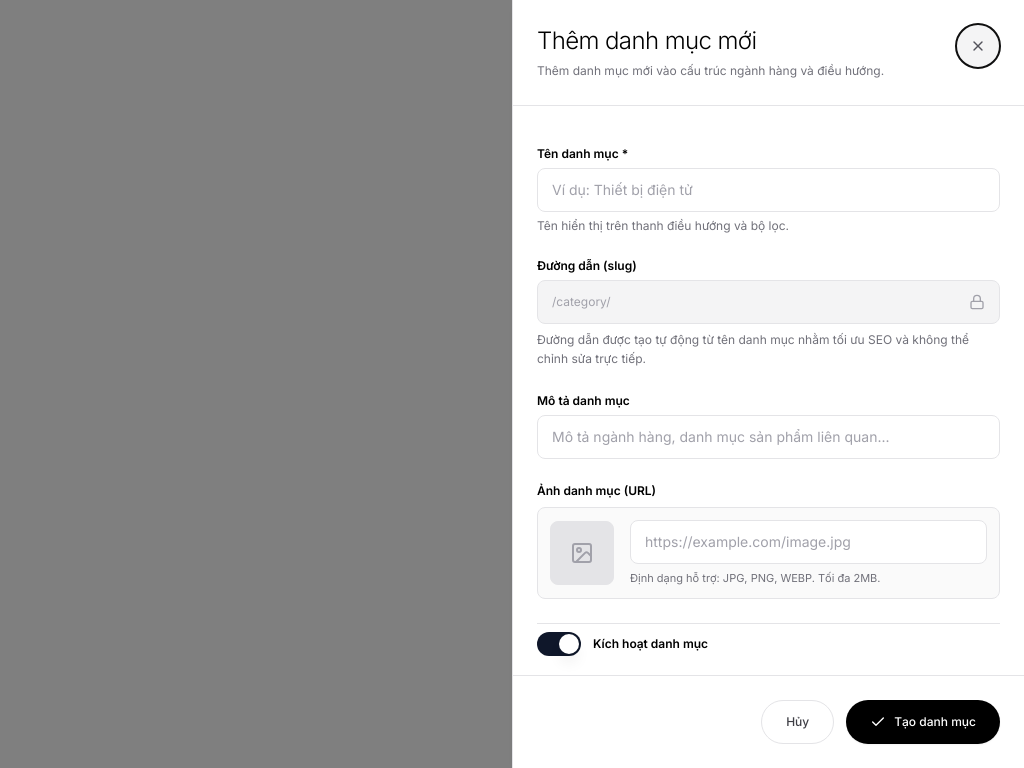
CategoryFormDrawer Component (Stitch Screen 3) › displays validation error when submitting with invalid input
Click the button "Tạo danh mục": (923, 722) [846,700,1000,744]
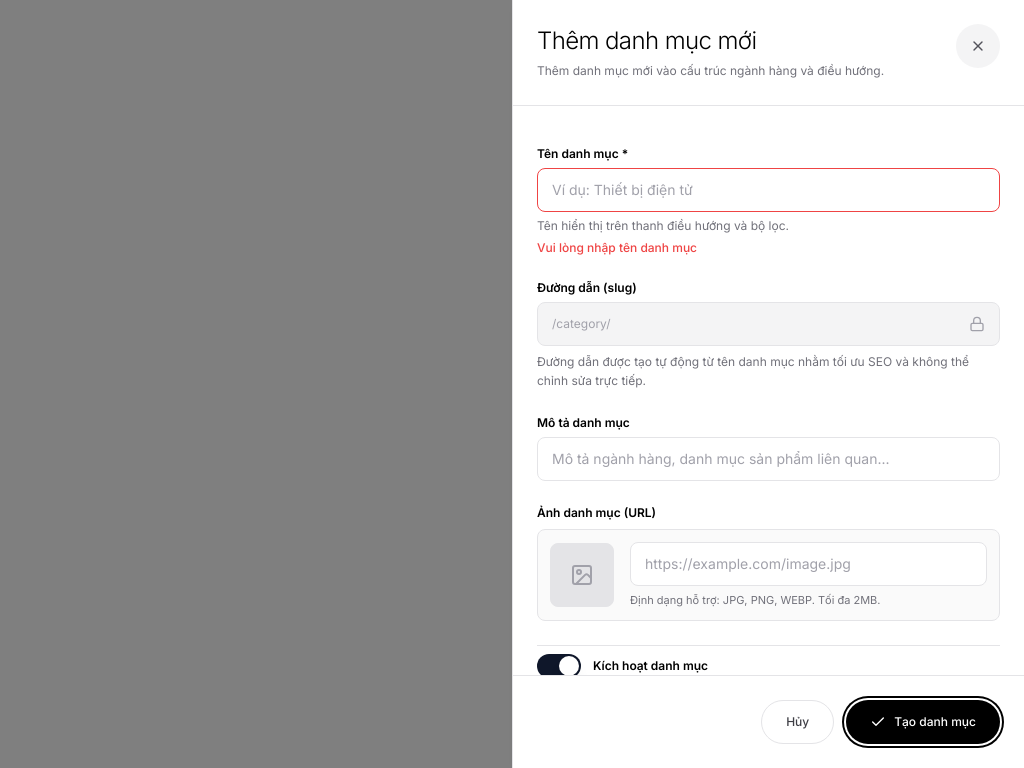
Result: the text "Vui lòng nhập tên danh mục" is shown at [537,240,697,254]
